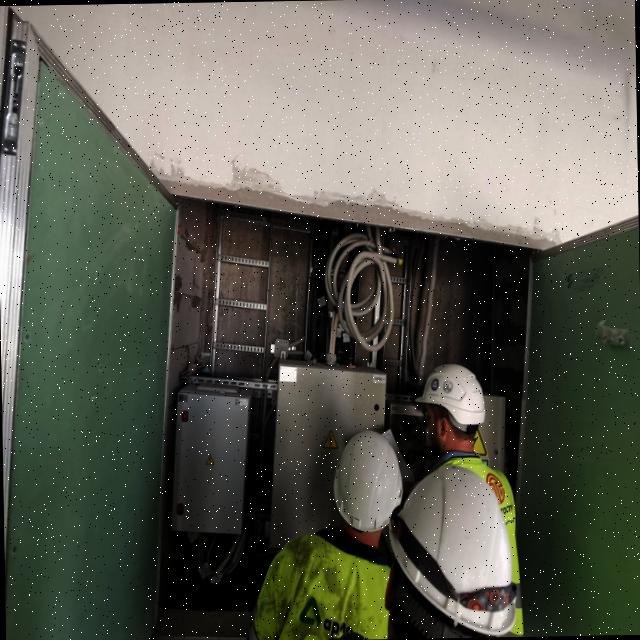Helmet: (377, 463, 521, 639), (329, 428, 406, 546), (412, 362, 488, 458)
